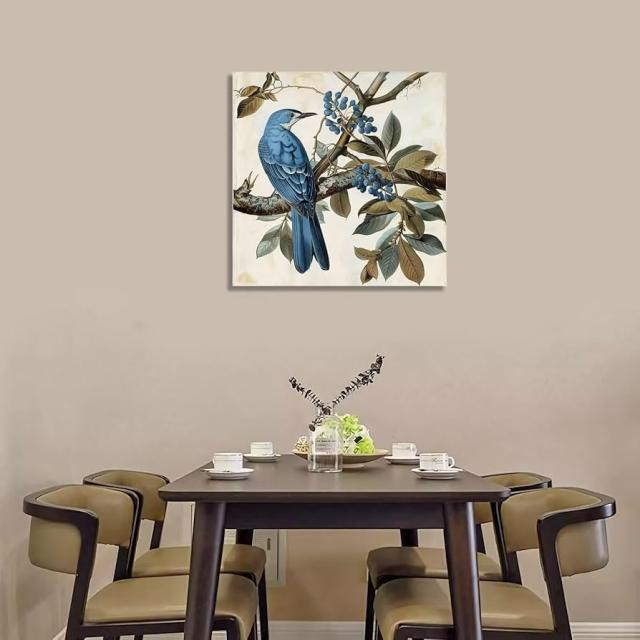painting: (231, 70, 447, 285)
